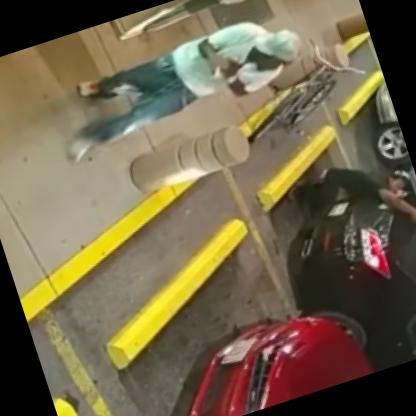Human Body: (37, 0, 321, 172)
